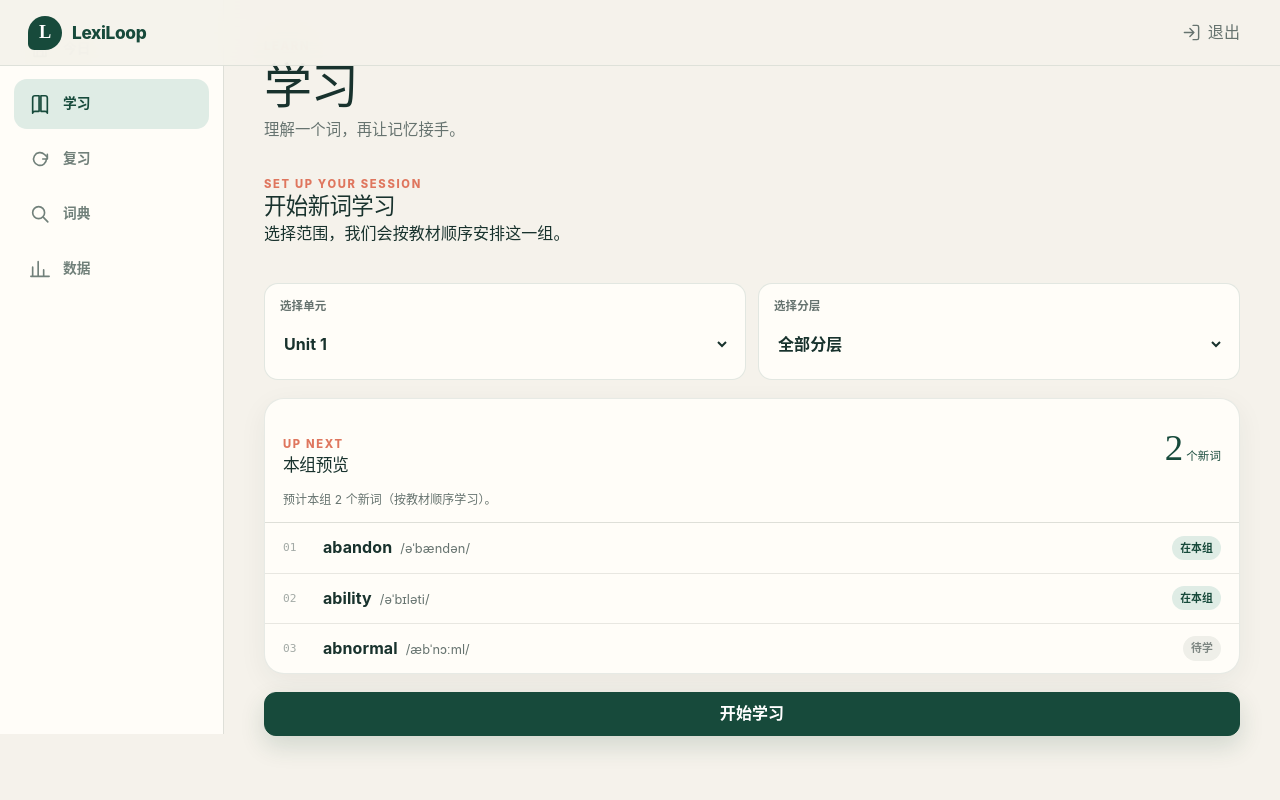
it: LearnSetupPage › starts a NEW_WORDS session through POST /api/study/sessions and shows the server card count
(page scrolled)
Expected: the heading "学习" is shown, [264, 56, 358, 115]
Step 1. Click the button "开始学习" → point(752, 714), box [264, 692, 1240, 736]
(page scrolled)
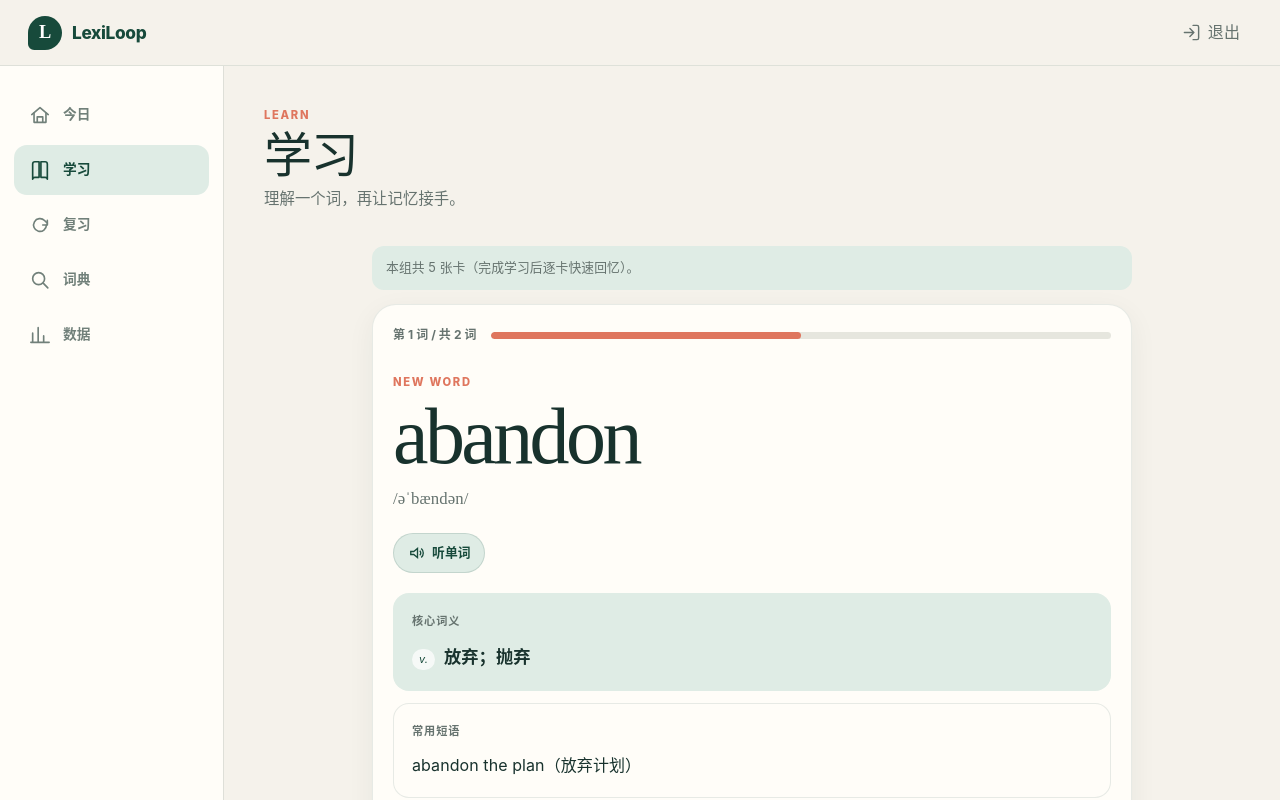
Expected: the text "本组共 5 张卡（完成学习后逐卡快速回忆）。" is shown, [372, 246, 1132, 290]
Expected: the text "第 1 词 / 共 2 词" is shown, [393, 325, 476, 345]
